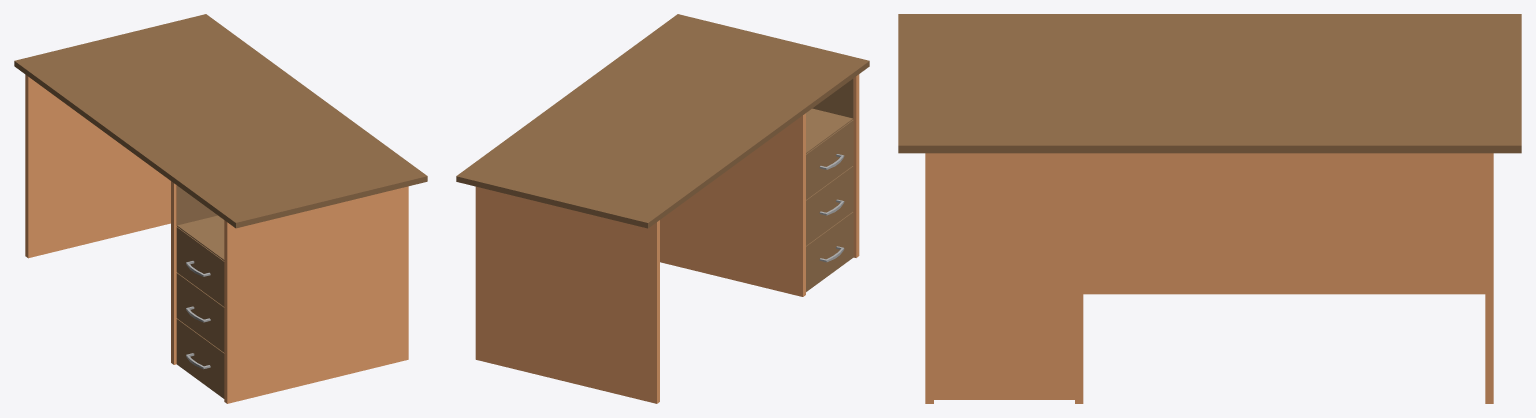
The model's file is table_2.FBX.
The picture shows the model from 3 angles, left to right: view 1: azimuth 30°, elevation 25°; view 2: azimuth 150°, elevation 25°; view 3: azimuth 270°, elevation 25°; orthographic projection. The views are drawn at different scales.
Visible parts, largest first — view 1: table_2; view 2: table_2; view 3: table_2.
Boxes of the visible parts, <box> form: table_2: <box>14,14,427,403</box>; table_2: <box>456,14,869,403</box>; table_2: <box>898,14,1521,403</box>.
Size of the model in its own units: 0.8232 by 0.7503 by 1.6.
